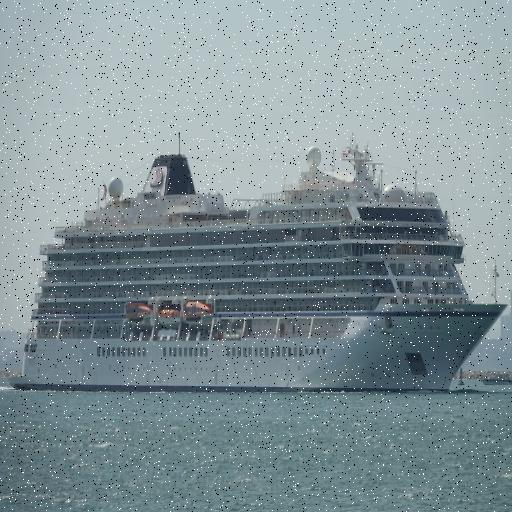cruises: (8, 126, 512, 401)
